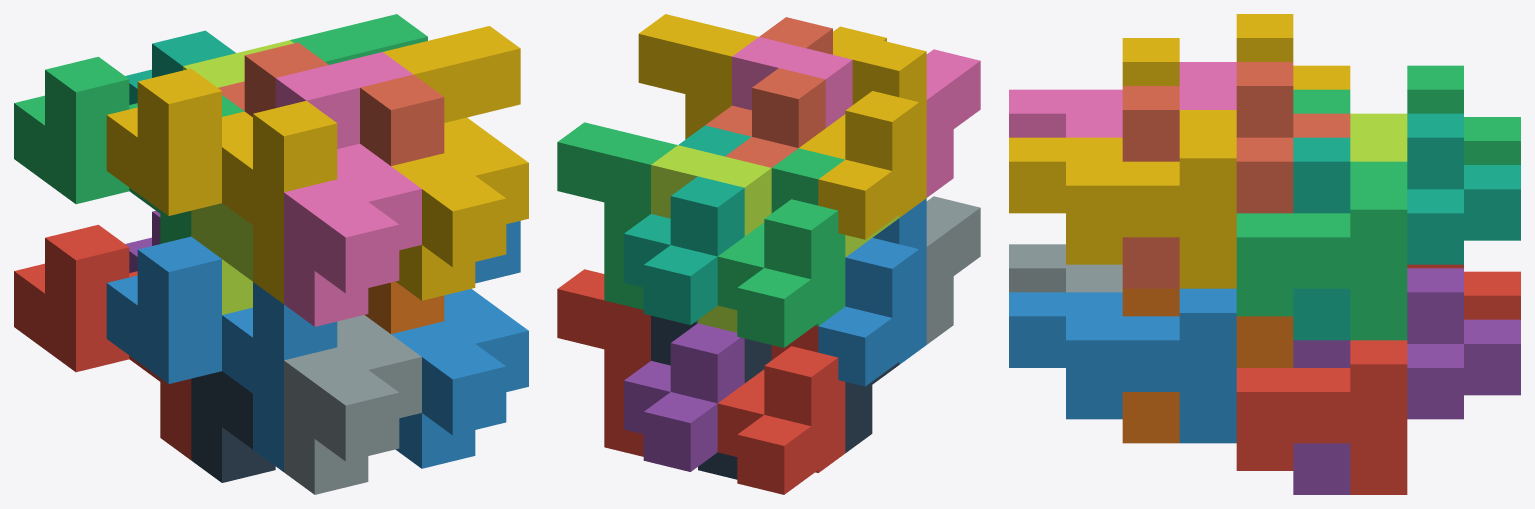
The model's file is tiling.obj.
3 views of the same model, side by side, from view 1: azimuth 30°, elevation 25°; view 2: azimuth 150°, elevation 25°; view 3: azimuth 270°, elevation 25° (orthographic). The views are drawn at different scales.
Visible parts, largest first — view 1: copy_1_domain_4, copy_2_domain_8, copy_2_domain_4, copy_1_domain_2, copy_2_domain_2, copy_2_domain_6, copy_1_domain_1, copy_1_domain_3, copy_1_domain_8, copy_2_domain_1, copy_2_domain_3, copy_2_domain_7 (+3 smaller); view 2: copy_1_domain_3, copy_1_domain_4, copy_1_domain_1, copy_1_domain_7, copy_1_domain_2, copy_1_domain_5, copy_2_domain_4, copy_2_domain_7, copy_2_domain_8, copy_1_domain_8, copy_2_domain_5, copy_2_domain_3 (+2 smaller); view 3: copy_2_domain_8, copy_2_domain_6, copy_2_domain_7, copy_1_domain_7, copy_2_domain_5, copy_1_domain_5, copy_1_domain_8, copy_2_domain_4, copy_1_domain_6, copy_1_domain_4, copy_1_domain_3, copy_2_domain_2 (+2 smaller).
Boxes of the visible parts, bbox=[...] form: copy_1_domain_4: bbox=[106, 68, 337, 303]; copy_2_domain_8: bbox=[383, 26, 528, 300]; copy_2_domain_4: bbox=[275, 52, 421, 326]; copy_1_domain_2: bbox=[106, 236, 337, 471]; copy_2_domain_2: bbox=[284, 315, 421, 494]; copy_2_domain_6: bbox=[391, 221, 528, 468]; copy_1_domain_1: bbox=[14, 224, 191, 459]; copy_1_domain_3: bbox=[14, 56, 244, 243]; copy_1_domain_8: bbox=[218, 42, 444, 165]; copy_2_domain_1: bbox=[191, 371, 275, 482]; copy_2_domain_3: bbox=[183, 40, 293, 314]; copy_2_domain_7: bbox=[290, 14, 427, 64]; copy_1_domain_3: bbox=[717, 148, 845, 347]; copy_1_domain_4: bbox=[799, 40, 926, 239]; copy_1_domain_1: bbox=[717, 325, 845, 494]; copy_1_domain_7: bbox=[624, 125, 751, 324]; copy_1_domain_2: bbox=[818, 198, 926, 386]; copy_1_domain_5: bbox=[624, 323, 744, 471]; copy_2_domain_4: bbox=[732, 37, 980, 197]; copy_2_domain_7: bbox=[557, 122, 677, 309]; copy_2_domain_8: bbox=[638, 14, 886, 139]; copy_1_domain_8: bbox=[705, 17, 832, 167]; copy_2_domain_5: bbox=[557, 269, 650, 456]; copy_2_domain_3: bbox=[651, 145, 899, 332]; copy_2_domain_8: bbox=[1009, 110, 1236, 288]; copy_2_domain_6: bbox=[1009, 288, 1236, 443]; copy_2_domain_7: bbox=[1236, 161, 1407, 340]; copy_1_domain_7: bbox=[1293, 113, 1520, 340]; copy_2_domain_5: bbox=[1236, 340, 1407, 494]; copy_1_domain_5: bbox=[1293, 268, 1520, 494]; copy_1_domain_8: bbox=[1122, 62, 1350, 288]; copy_2_domain_4: bbox=[1009, 62, 1236, 137]; copy_1_domain_6: bbox=[1122, 288, 1293, 443]; copy_1_domain_4: bbox=[1122, 14, 1350, 89]; copy_1_domain_3: bbox=[1293, 65, 1520, 164]; copy_2_domain_2: bbox=[1009, 244, 1122, 292].
Size of the model in its own units: 6 by 7 by 9.
